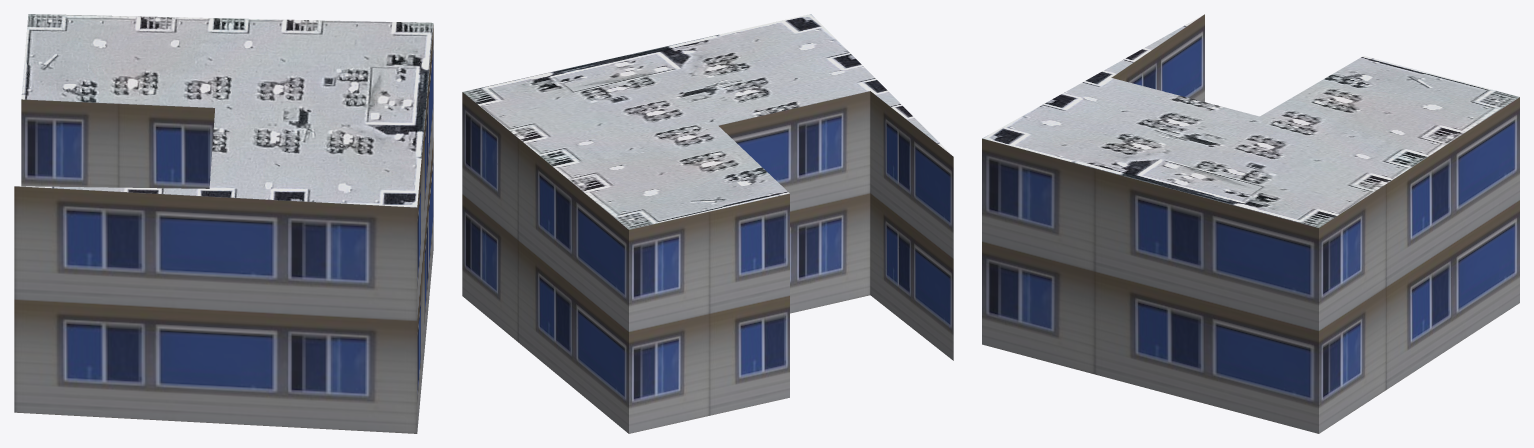
Rendered from ResTex__3004.fbx.
The picture shows the model from 3 angles, left to right: view 1: azimuth 30°, elevation 25°; view 2: azimuth 150°, elevation 25°; view 3: azimuth 270°, elevation 25°; orthographic projection. The views are drawn at different scales.
Parts seen in each view (by area): view 1: CityEngineMaterial_23_m, CityEngineMaterial_4_m; view 2: CityEngineMaterial_23_m, CityEngineMaterial_4_m; view 3: CityEngineMaterial_23_m, CityEngineMaterial_4_m.
Part boxes in pixels (<box>): CityEngineMaterial_23_m: <box>14,24,433,433</box>; CityEngineMaterial_4_m: <box>20,14,433,207</box>; CityEngineMaterial_23_m: <box>462,91,953,433</box>; CityEngineMaterial_4_m: <box>463,14,952,229</box>; CityEngineMaterial_23_m: <box>982,14,1519,433</box>; CityEngineMaterial_4_m: <box>982,15,1519,227</box>.
Bounding box in the file's own units: 13.36 × 6 × 14.19.
2 materials, 2 textured.
